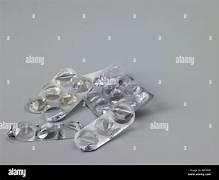pill_Strip: (74, 66, 153, 150), (7, 91, 86, 140), (25, 68, 91, 121), (84, 66, 153, 115), (74, 103, 134, 151), (7, 103, 82, 140), (25, 68, 77, 113), (80, 108, 135, 150), (25, 68, 76, 113), (7, 121, 82, 141), (63, 91, 96, 113)
